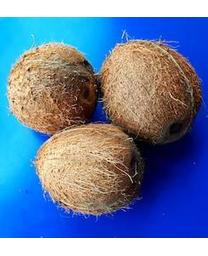coconut: (31, 123, 148, 217), (98, 43, 196, 147), (6, 41, 101, 129)
